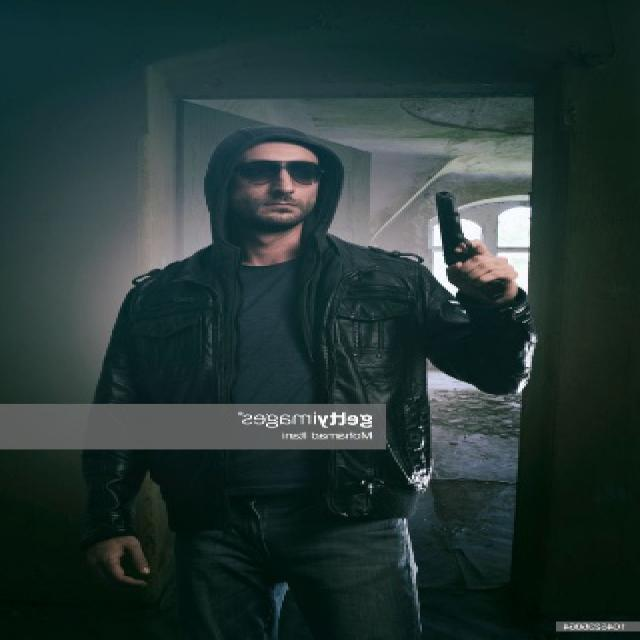handgun: (433, 186, 481, 268)
